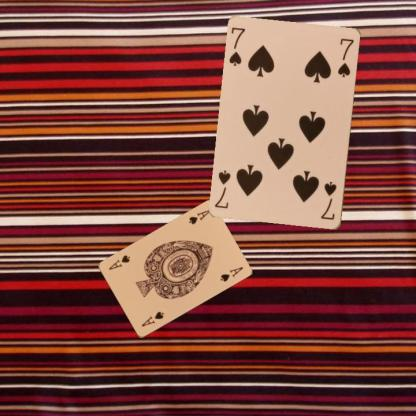7s: (226, 24, 247, 67), (318, 179, 338, 221)
As: (139, 309, 165, 328), (186, 207, 212, 226)
